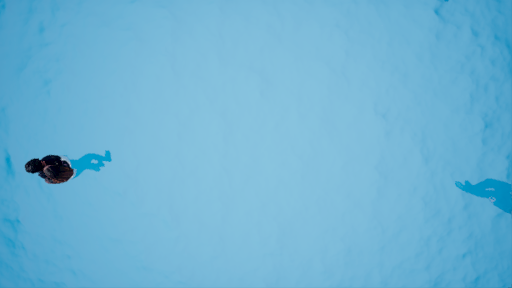person: (17, 147, 113, 186)
